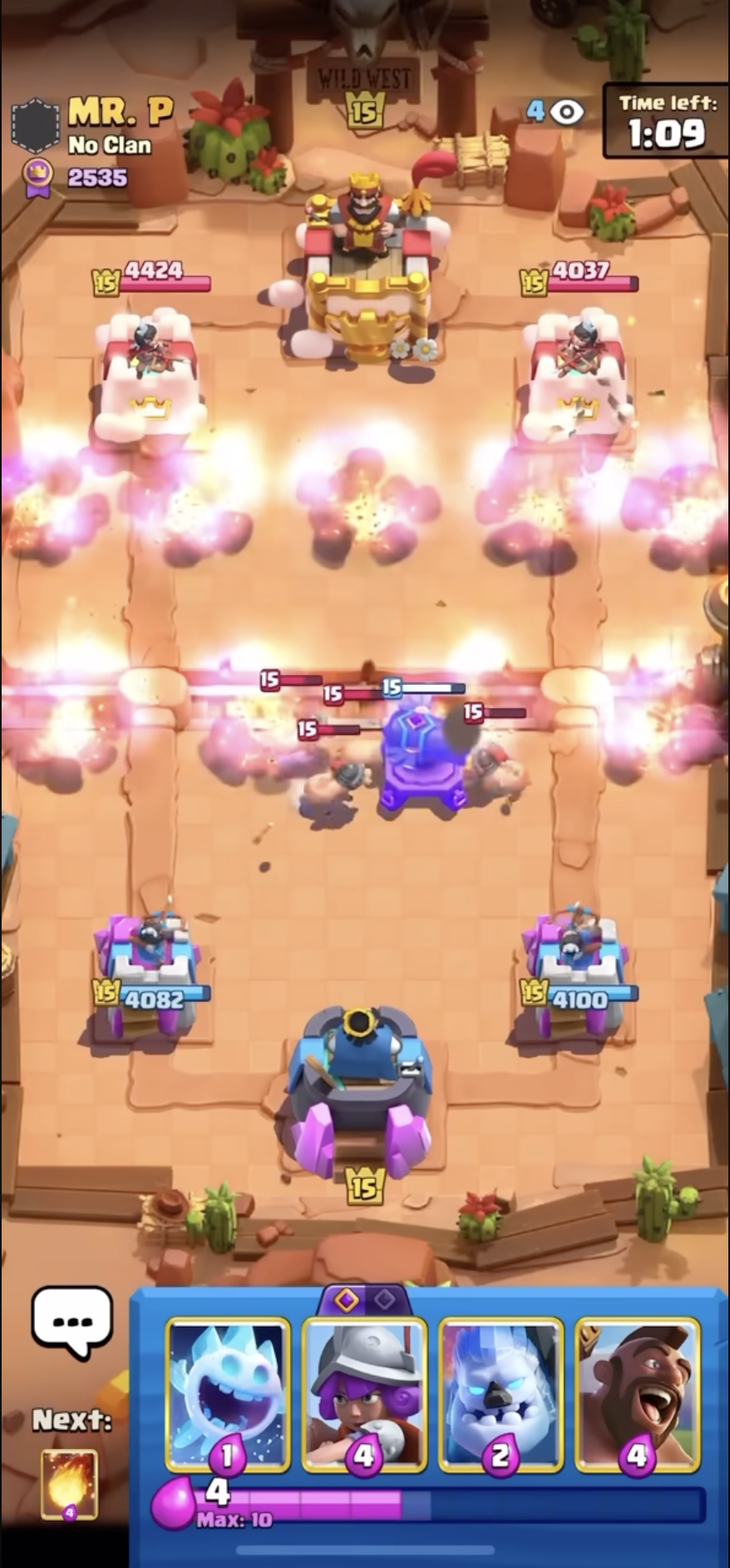evo_cannon: (374, 660, 480, 830)
